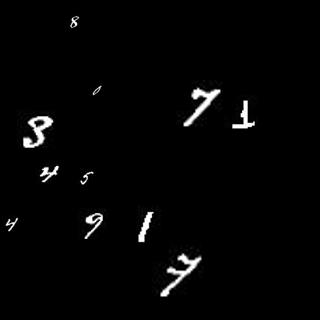eight: (67, 12, 81, 32)
five: (80, 168, 94, 184)
four: (36, 162, 59, 184), (2, 213, 19, 235)
nine: (80, 211, 105, 239)
one: (231, 99, 260, 130), (137, 212, 155, 244)
seven: (158, 252, 201, 297), (181, 83, 220, 130)
three: (21, 112, 57, 151)
zero: (92, 77, 102, 97)
